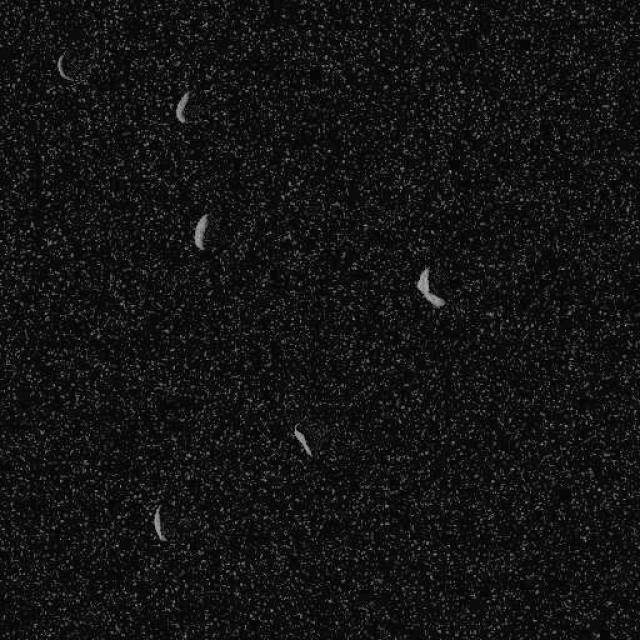D2: (414, 265, 446, 309), (55, 50, 89, 84), (192, 212, 210, 252), (292, 422, 312, 458), (174, 88, 190, 124), (152, 504, 166, 541)
